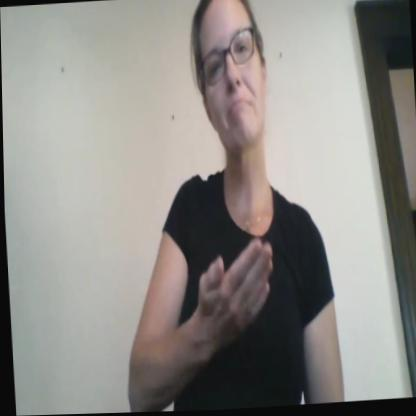ThankYou: (172, 0, 291, 380)
